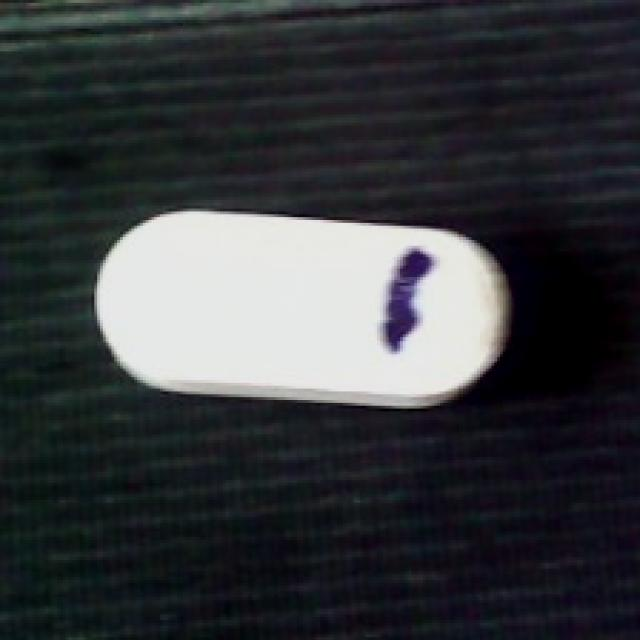defected: (91, 203, 526, 408)
